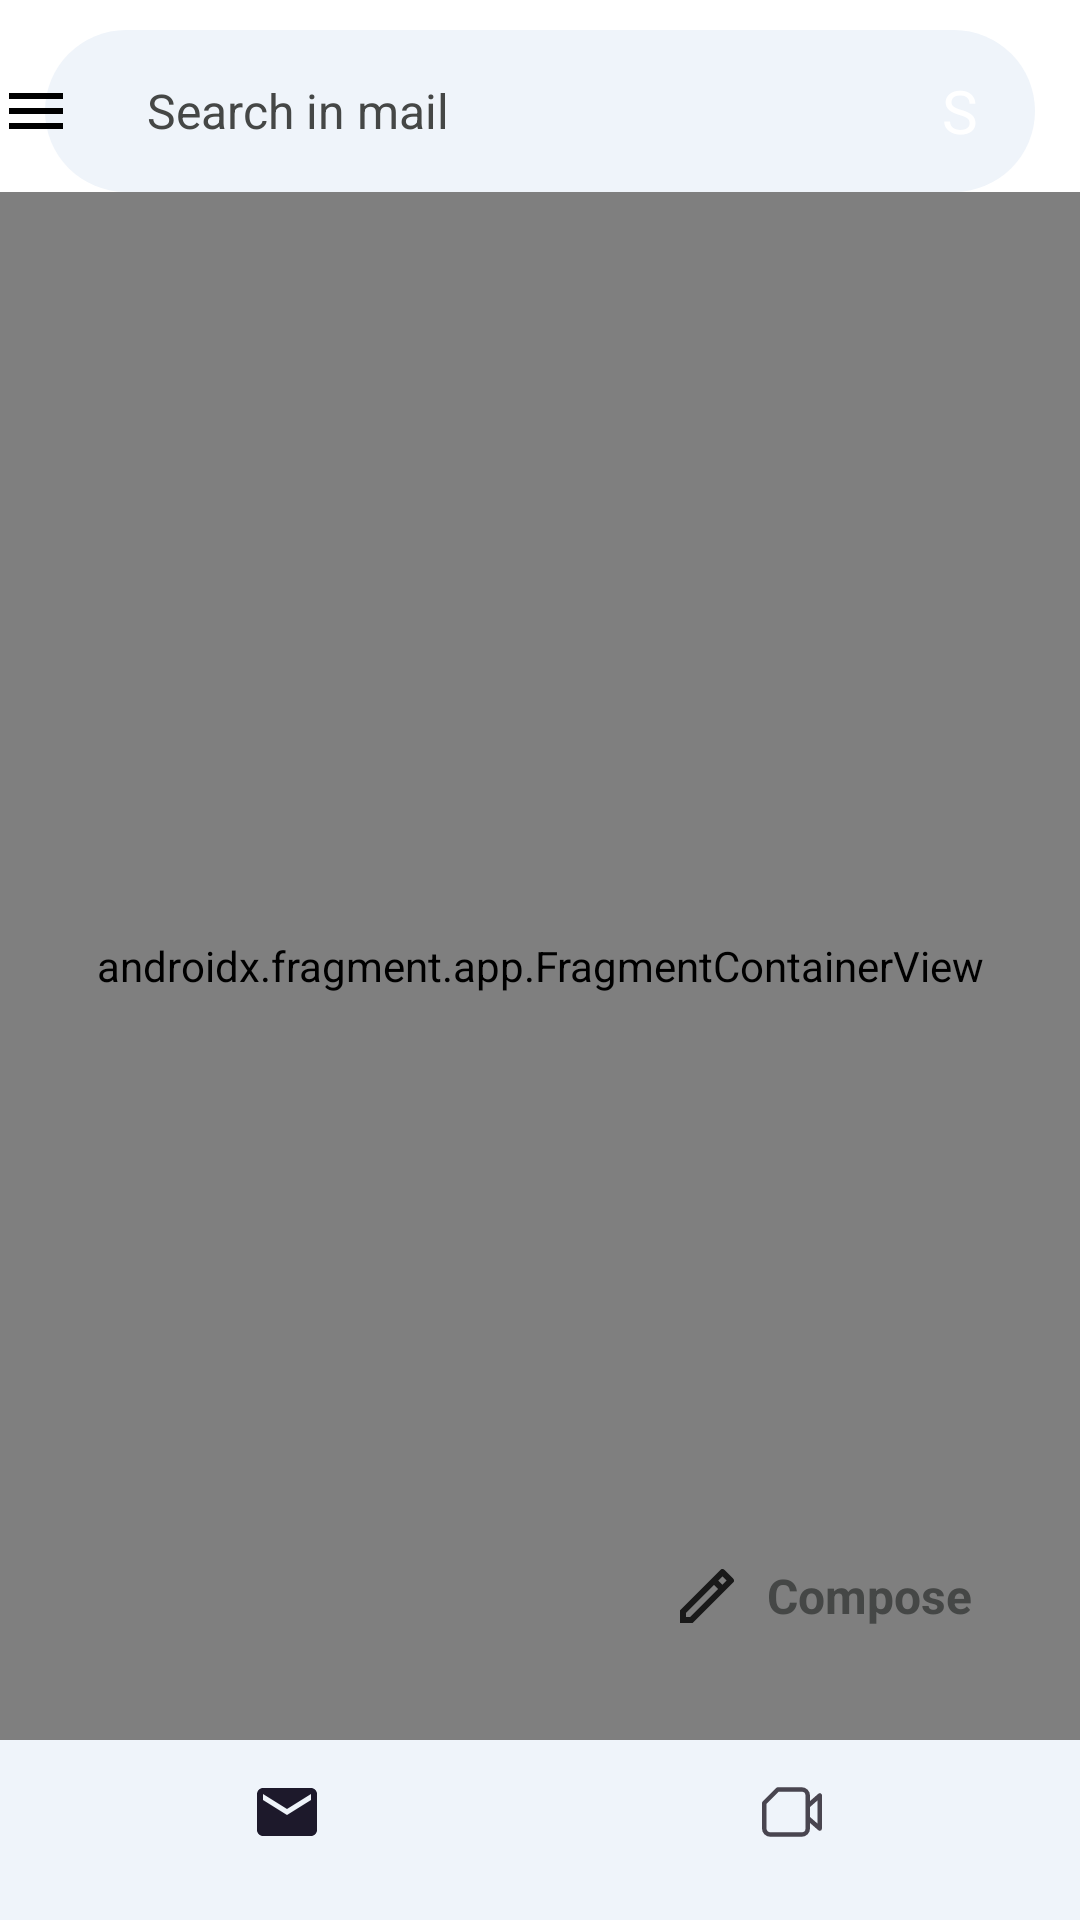

Named icons in this screenshot (1080w x 1920h) and their centers, [x,y]:
menu: [36,111]
